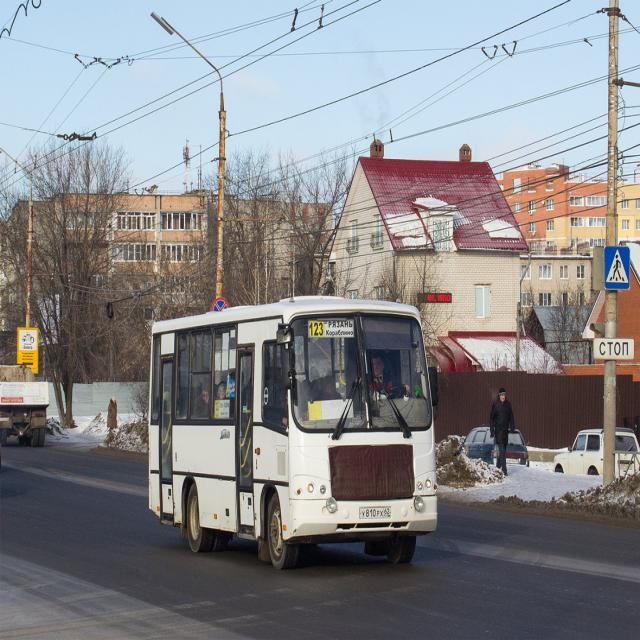number-of-bus: (310, 321, 326, 337)
